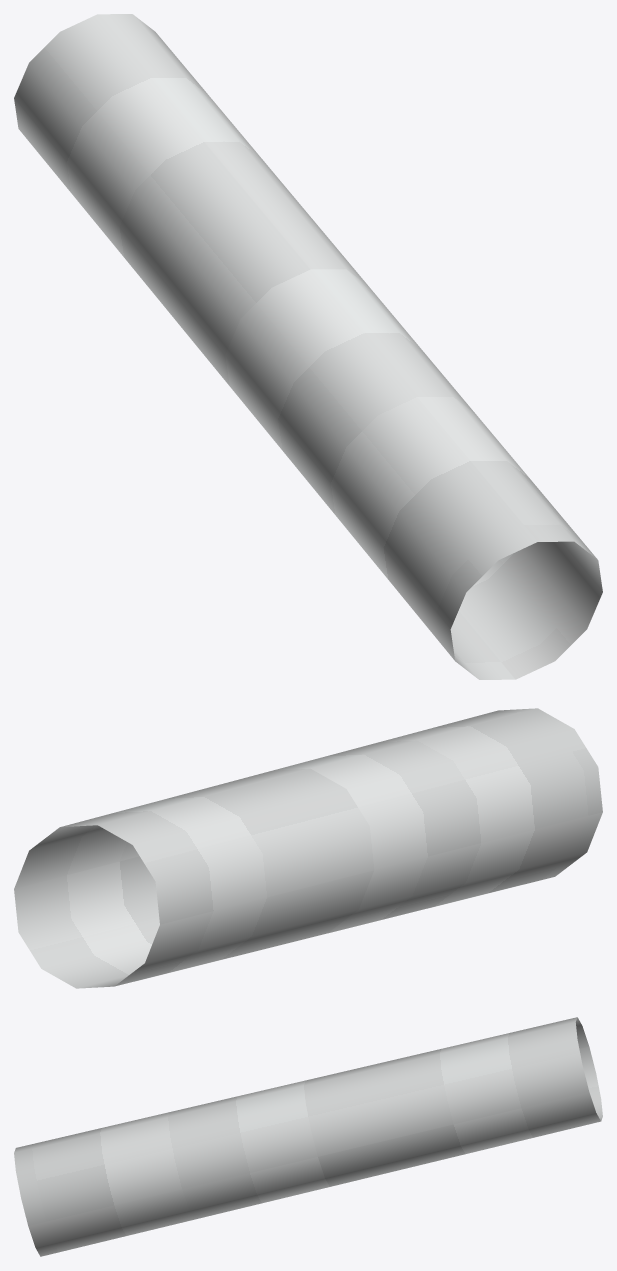
The model's file is luminairearm_caltrans15ftstraight_c4.obj.
The picture shows the model from 3 angles, top to bottom: view 1: azimuth 30°, elevation 25°; view 2: azimuth 150°, elevation 25°; view 3: azimuth 270°, elevation 25°; orthographic projection. The views are drawn at different scales.
Visible parts, largest first — view 1: luminairearm_caltrans15ftstraight_c4; view 2: luminairearm_caltrans15ftstraight_c4; view 3: luminairearm_caltrans15ftstraight_c4.
Part boxes in pixels (bbox=[...]): luminairearm_caltrans15ftstraight_c4: bbox=[14, 14, 602, 679]; luminairearm_caltrans15ftstraight_c4: bbox=[14, 708, 602, 988]; luminairearm_caltrans15ftstraight_c4: bbox=[14, 1017, 602, 1256].
Size of the model in its own units: 0.2 by 0.4511 by 1.05.
